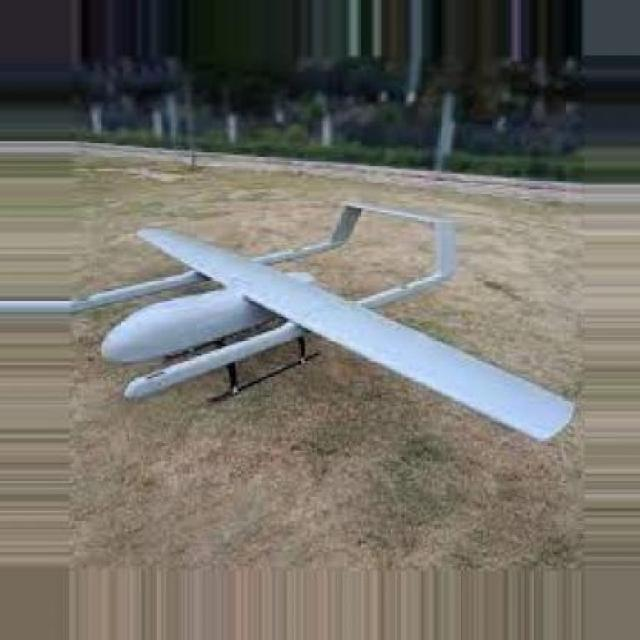iha: (0, 190, 576, 441)
